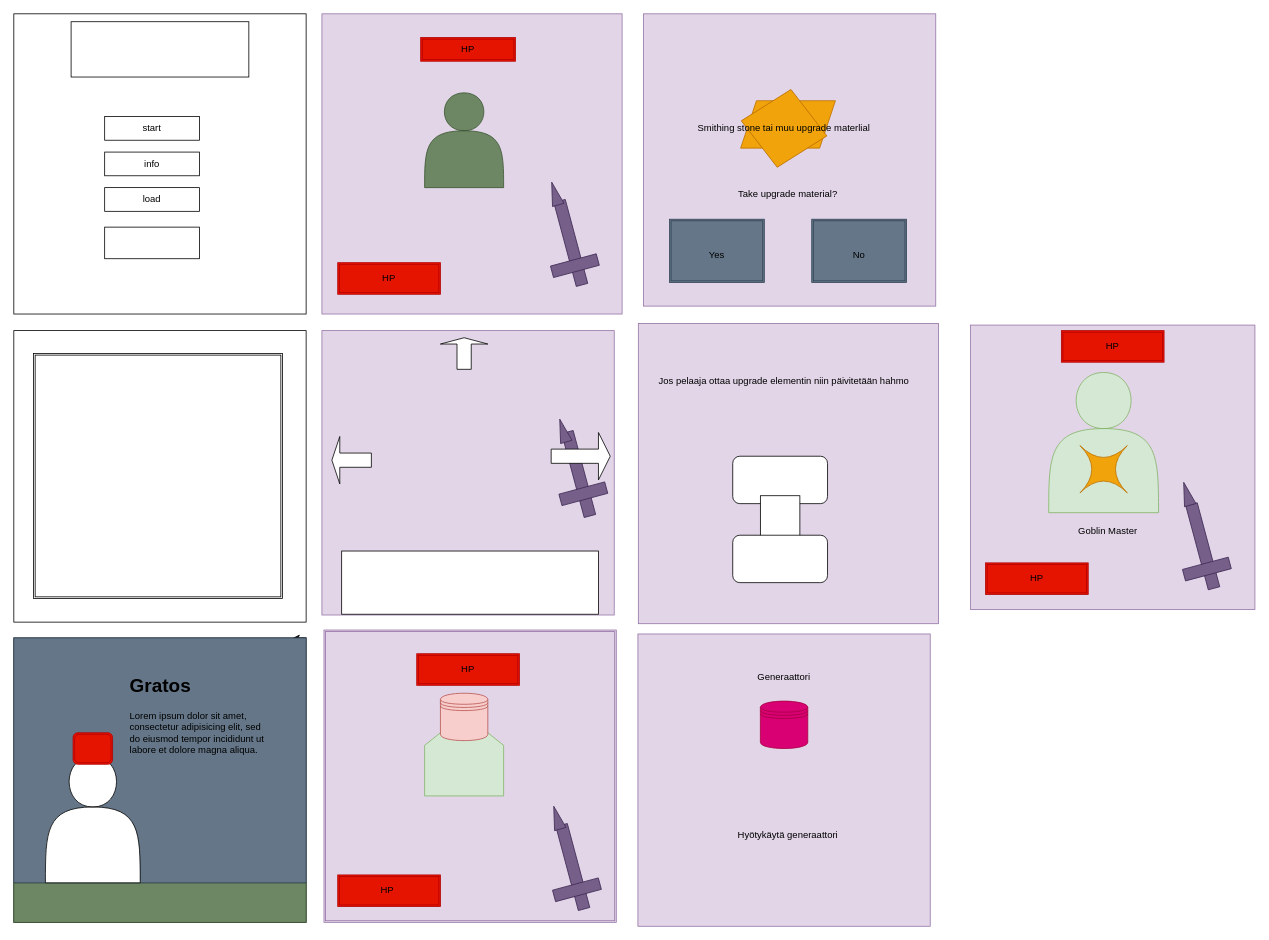
Image size: 1269x940. Some labels were removed from this diagram. The shapes that lost their labels are listed below. From the top down, each one's centre as x and y in pixels, then its label:
(159,49): The Dungeon
(151,242): quit
(157,475): Aloitusteksti....
(470,582): lorem ipsun diibadaaba
(92,819): Gratos
